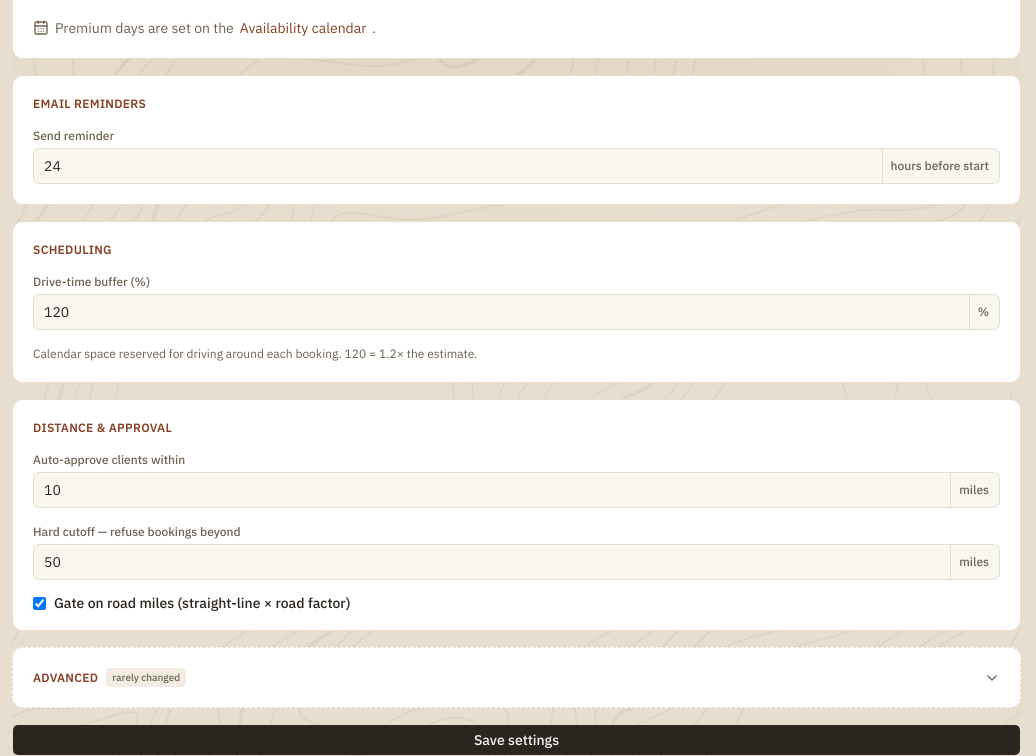
Test case: SettingsClient › leaves Advanced closed and no field marked on a clean save
(page scrolled)
Click the button "Save settings".
click(516, 740)  # box [12,724,1021,755]
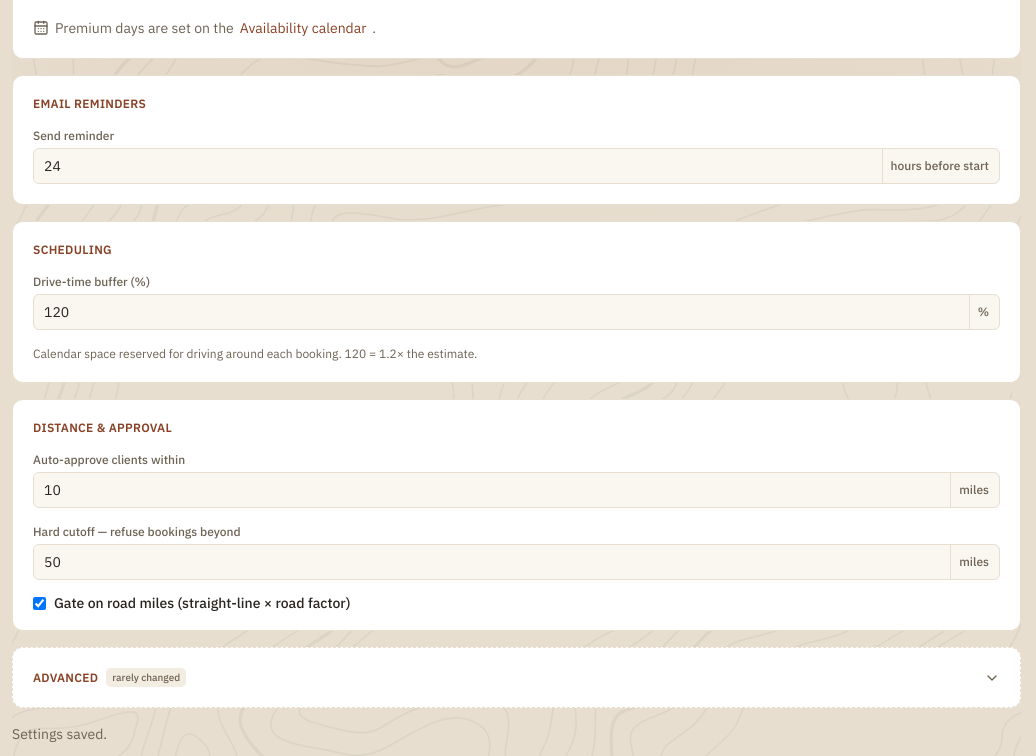
Expected: the message reads "Settings saved.", [12,725,107,743]
